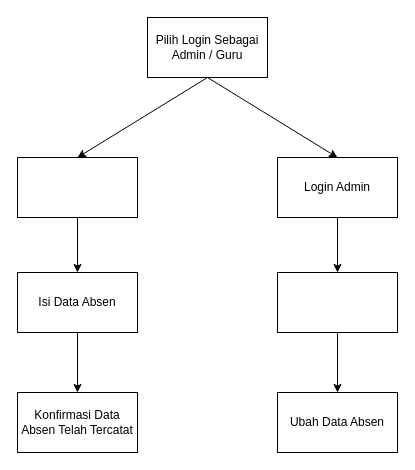
Image size: 415x470. Some labels were removed from this diagram. The centre of each missing label's shape, as x and y in pixels:
Cek Data Absen: the point at 337,302
Login Guru: the point at 77,187
